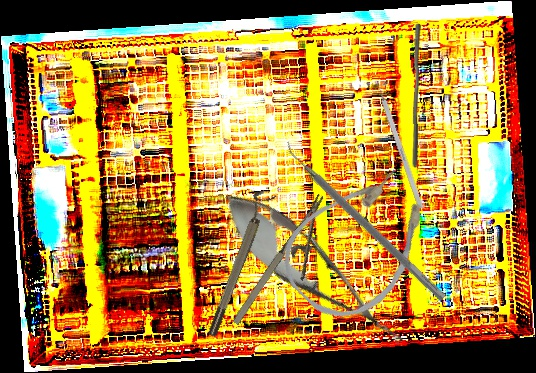Cannula: (265, 149, 454, 338)
Fixation Ring: (198, 187, 277, 339)
Hook Surgical: (372, 72, 424, 210)
Micro Scissor: (206, 176, 420, 364)
Needle Holder: (228, 193, 350, 341)
Pusher: (409, 22, 424, 169)
Spatula Surgical: (279, 137, 453, 302)
